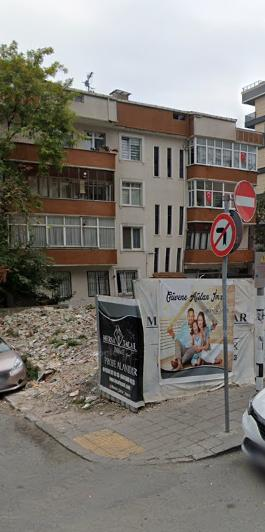leftturnsareforbidden: (210, 217, 236, 251)
